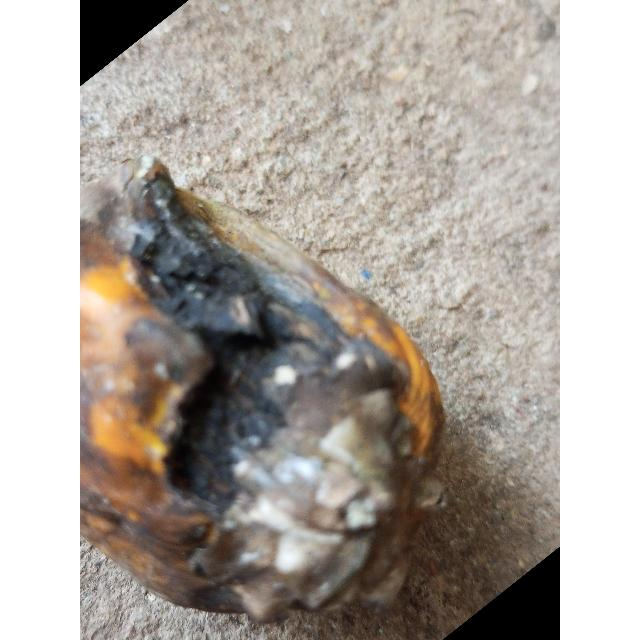damaged: (80, 158, 447, 630)
